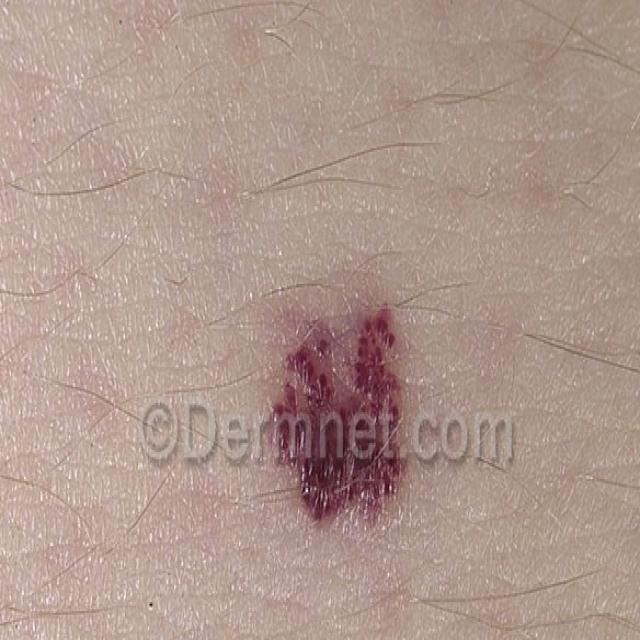Vascular Tumors: (249, 278, 430, 547)
